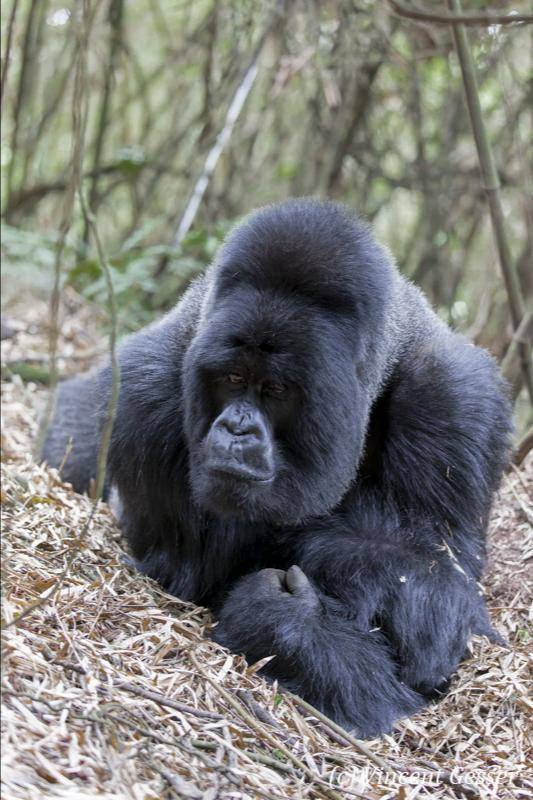goriile_montagne: (56, 102, 533, 713)
